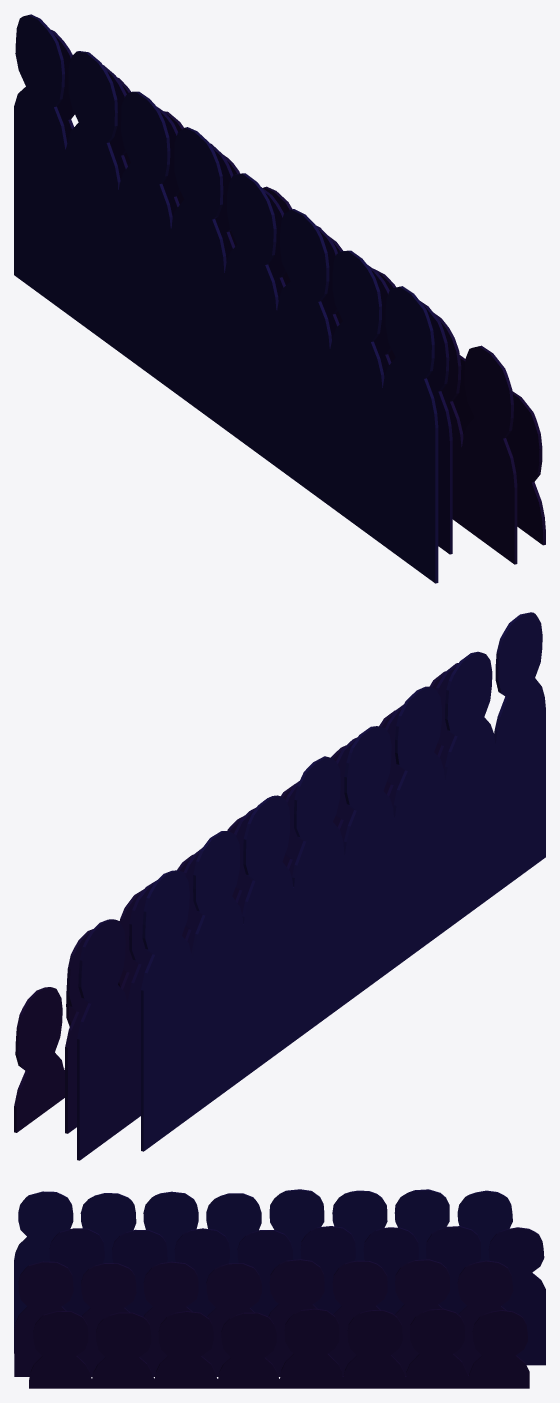
The model's file is crowd.fbx.
3 views of the same model, one above another, from view 1: azimuth 30°, elevation 25°; view 2: azimuth 150°, elevation 25°; view 3: azimuth 270°, elevation 25° (orthographic). The views are drawn at different scales.
Parts seen in each view (by area): view 1: crowd4, crowd2, crowd 3, crowd1; view 2: crowd4, crowd 3, crowd1, crowd2; view 3: crowd1, crowd2, crowd 3, crowd4.
Part boxes in pixels (<box>): crowd4: <box>14,14,438,583</box>; crowd2: <box>117,77,517,564</box>; crowd 3: <box>50,29,452,554</box>; crowd1: <box>453,355,545,545</box>; crowd4: <box>141,612,545,1151</box>; crowd 3: <box>77,663,458,1160</box>; crowd1: <box>14,970,126,1132</box>; crowd2: <box>65,671,445,1133</box>; crowd1: <box>29,1308,529,1388</box>; crowd2: <box>14,1259,513,1376</box>; crowd 3: <box>49,1226,545,1365</box>; crowd4: <box>14,1189,512,1353</box>.
Size of the model in its own units: 309 by 661 by 1945.
